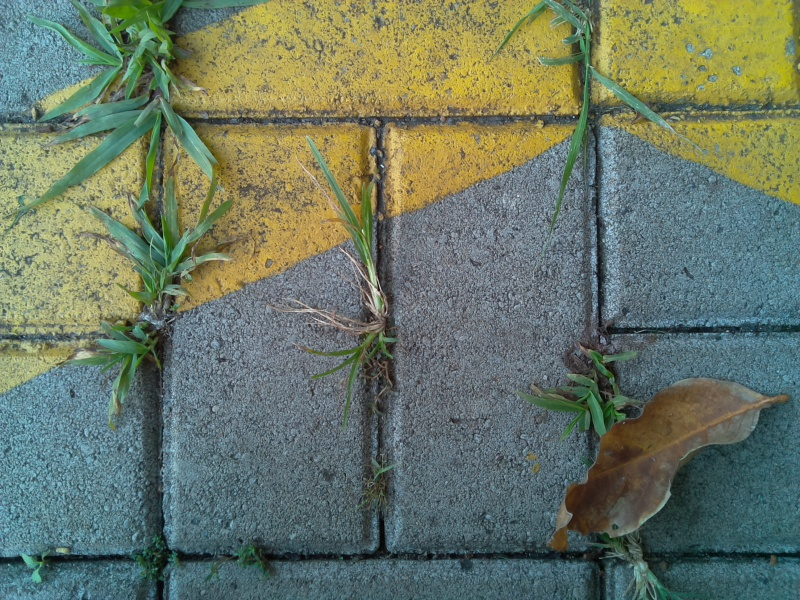Weed: (43, 95, 226, 199), (91, 190, 239, 317), (537, 4, 643, 177), (290, 143, 395, 309), (31, 5, 207, 96), (527, 334, 631, 434), (70, 316, 180, 402), (298, 315, 414, 392), (565, 527, 675, 600), (345, 454, 407, 516), (124, 525, 184, 580), (11, 541, 65, 589), (229, 534, 281, 580)
